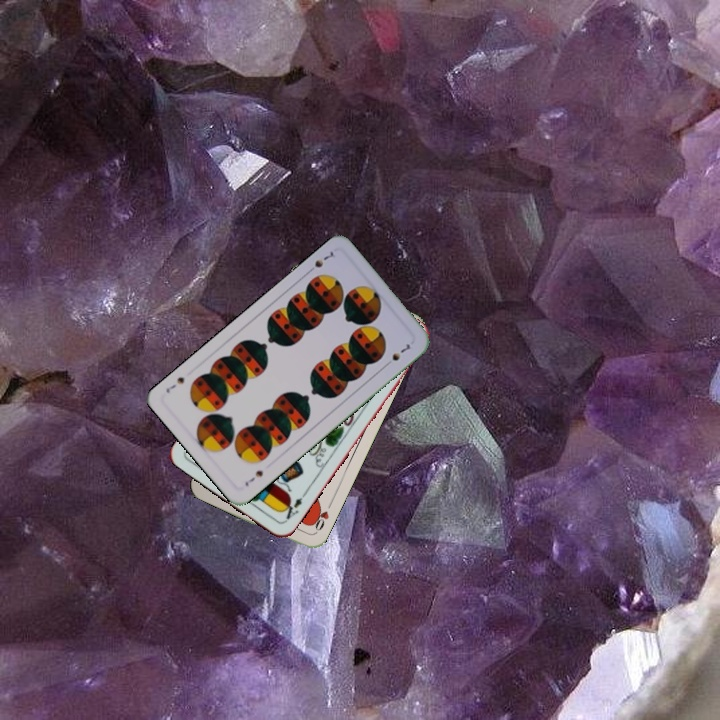EA: (278, 493, 305, 524)
HO: (307, 499, 334, 537)
S7: (303, 247, 336, 276), (241, 466, 266, 489)
